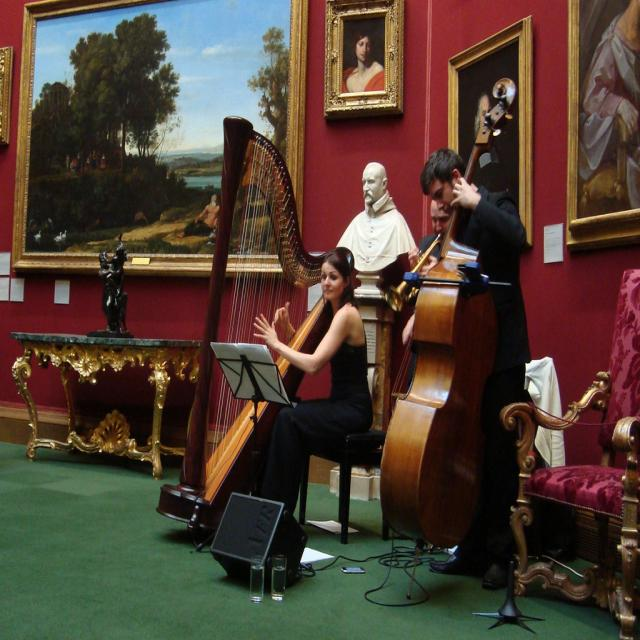harp: (152, 119, 356, 536)
